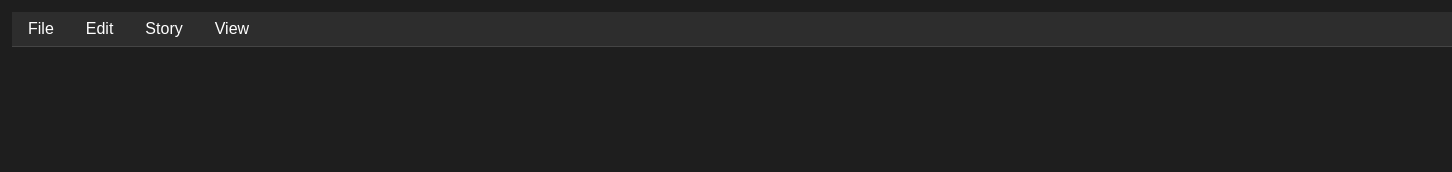
Test: Feature: Menu Bar Component › Scenario: User interacts with Edit menu › Given the Edit menu is closed, When clicked, Then it should open and display edit options
The image size is (1452, 172).
Step 1. Click the button "Edit" → (100, 29), box top-left (70, 12), bottom-right (129, 46)
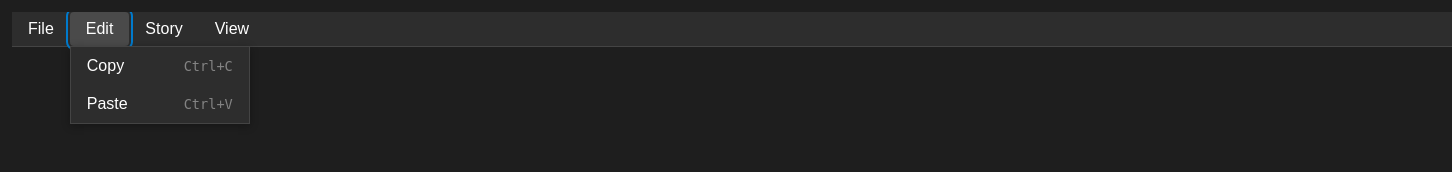
Result: the text "Copy" is shown at top-left (87, 57), bottom-right (124, 75)
Result: the text "Paste" is shown at top-left (87, 95), bottom-right (128, 113)
